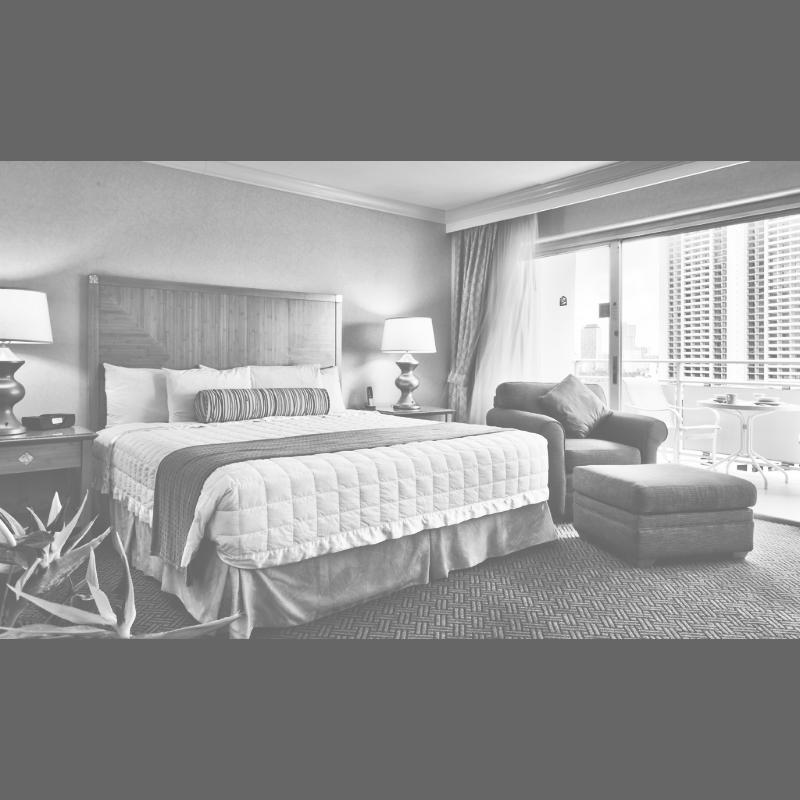pillow: (157, 362, 253, 426), (536, 376, 607, 436), (105, 366, 168, 432), (204, 361, 324, 391)
